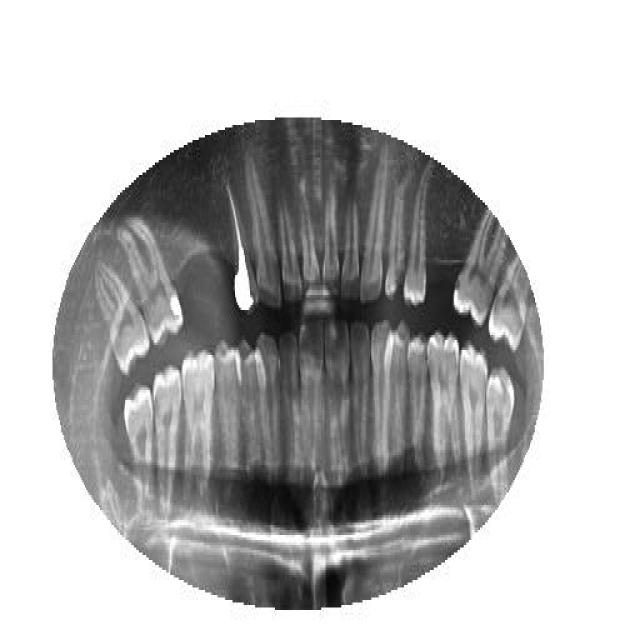Implant: (220, 183, 260, 315)
